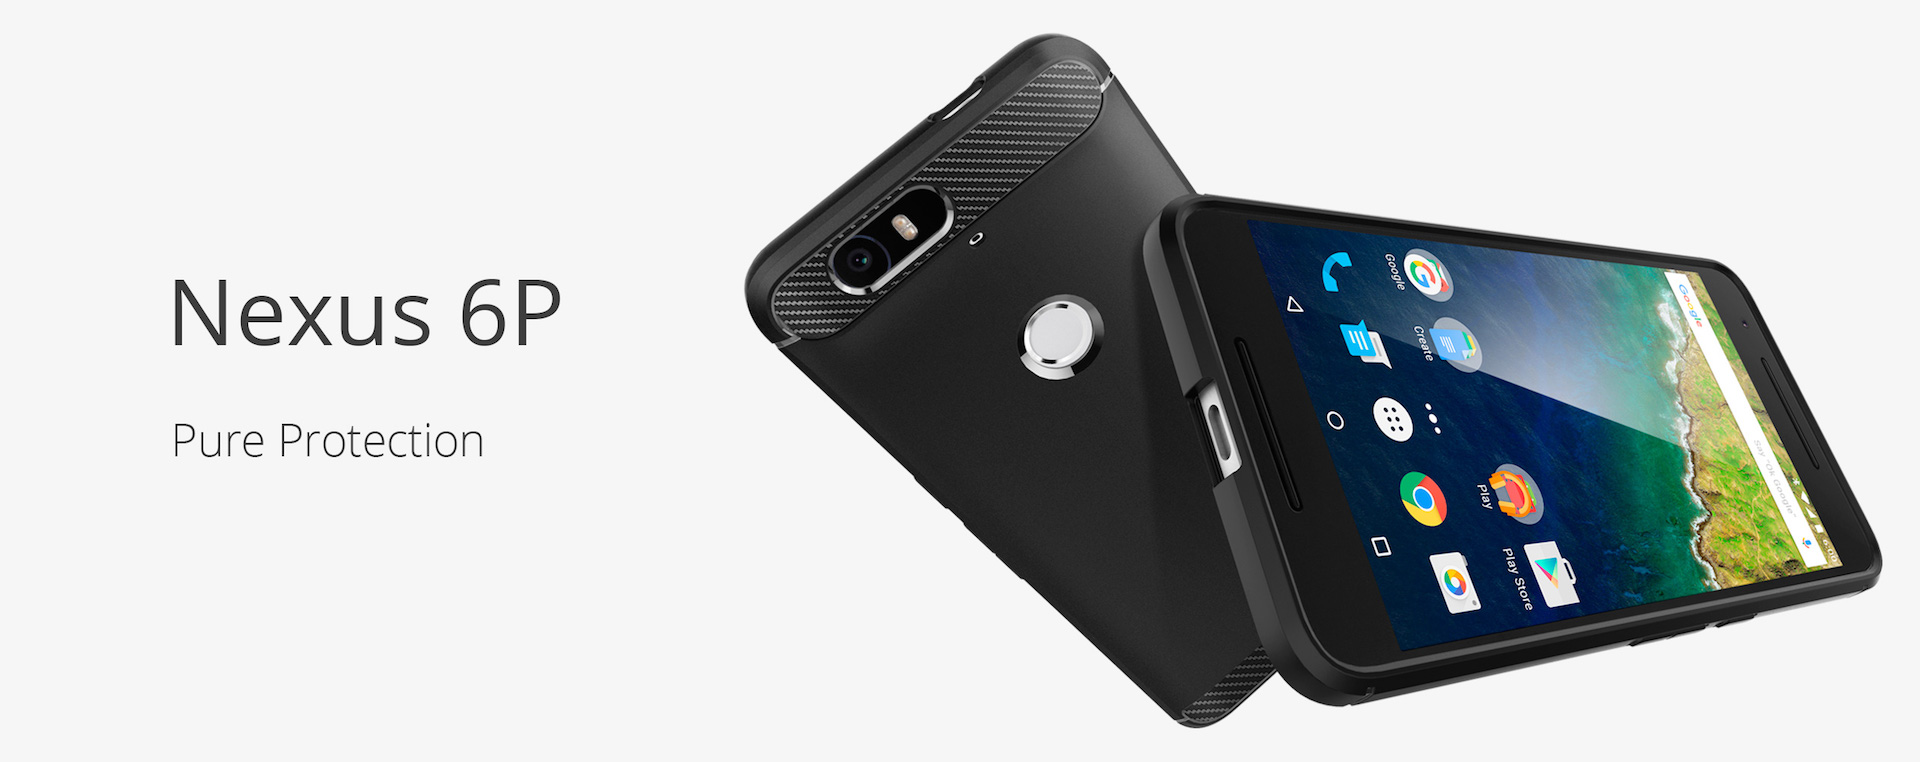smartphone: (1138, 194, 1884, 711), (744, 32, 1277, 730)
